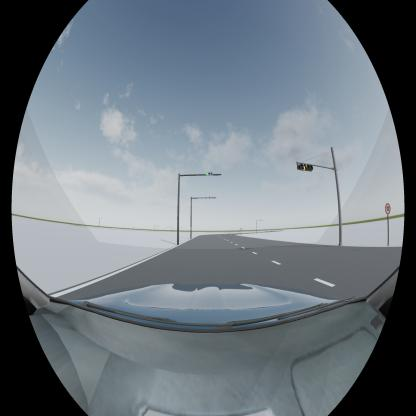Green Light: (206, 172, 213, 176)
Speed Limit 100: (385, 203, 391, 214)
